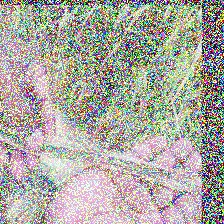Leaf_Blast: (0, 121, 202, 194)
